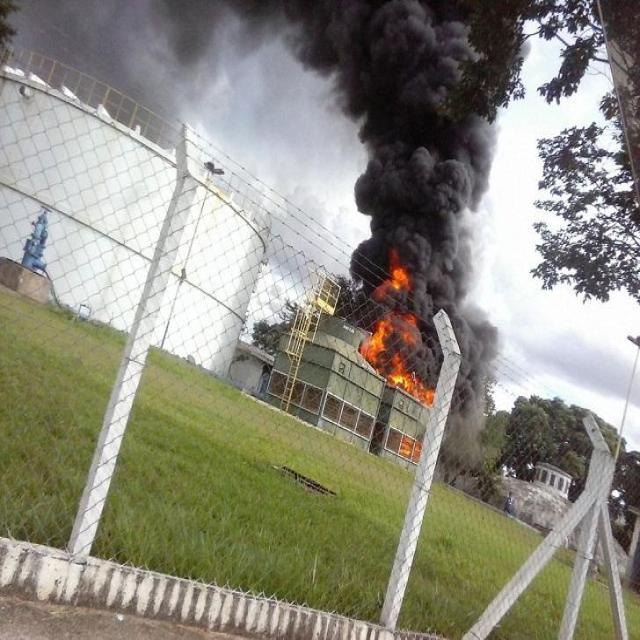smoke: (351, 2, 514, 242), (26, 0, 349, 53), (426, 248, 494, 389)
